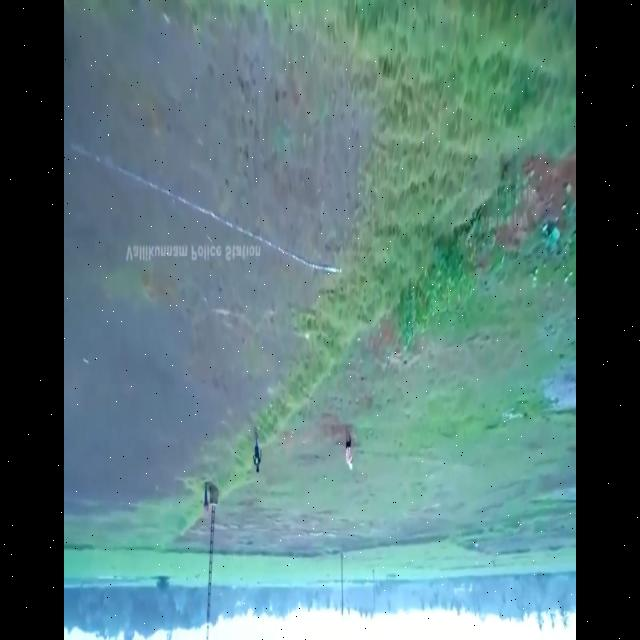humans: (345, 423, 359, 475), (251, 428, 264, 480)
